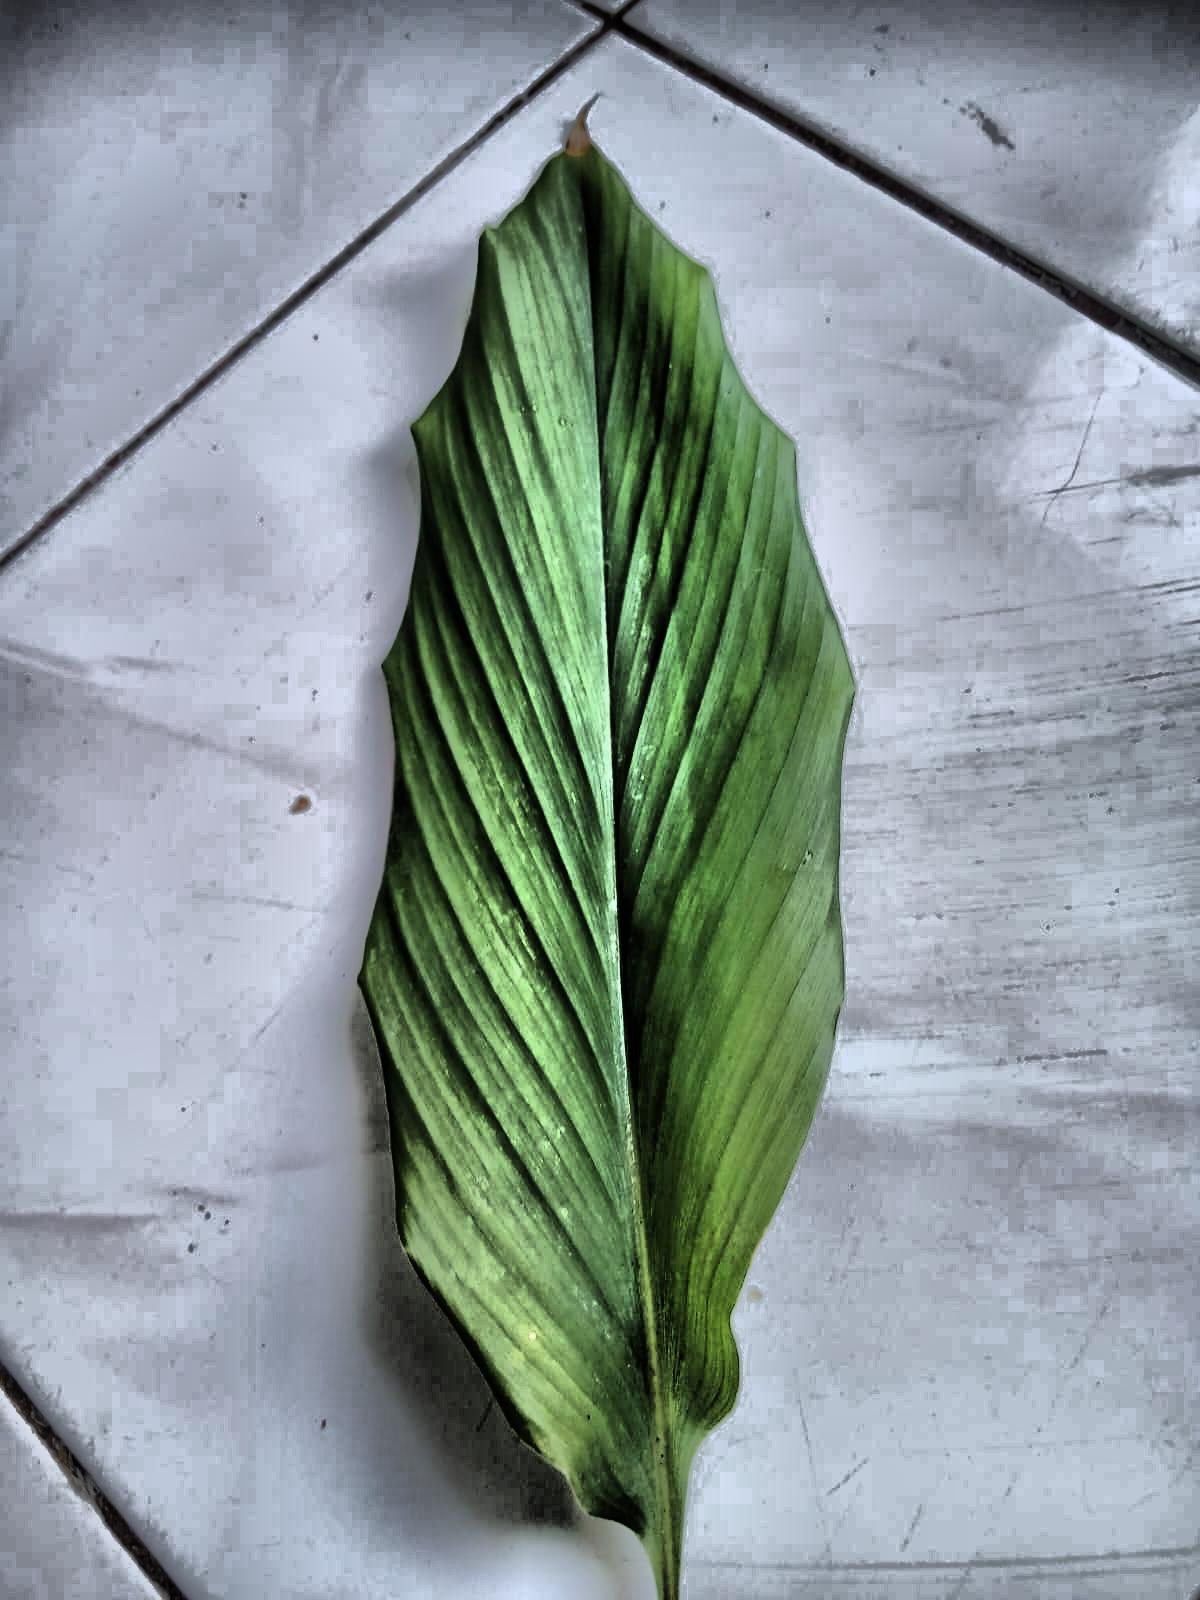daun kunyit: (361, 125, 853, 1599)
